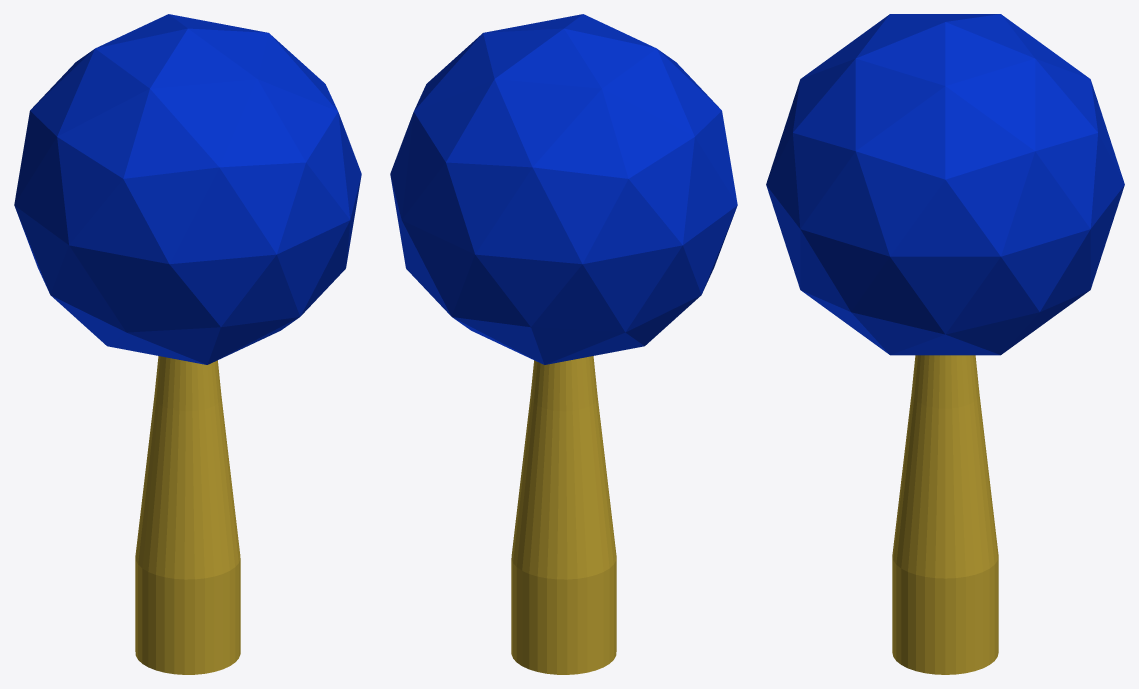
Rendered from Tree.obj.
3 renders of one model, left to right at view 1: azimuth 30°, elevation 25°; view 2: azimuth 150°, elevation 25°; view 3: azimuth 270°, elevation 25°, orthographic.
Visible parts, largest first — view 1: Icosphere, Cylinder; view 2: Icosphere, Cylinder; view 3: Icosphere, Cylinder.
Part boxes in pixels (left/top/right/bottom): Icosphere: left=14, top=14, right=361, bottom=364; Cylinder: left=135, top=356, right=240, bottom=674; Icosphere: left=390, top=14, right=737, bottom=364; Cylinder: left=511, top=356, right=616, bottom=674; Icosphere: left=766, top=14, right=1124, bottom=355; Cylinder: left=892, top=355, right=998, bottom=674.
Bounding box in the file's own units: 1.1 × 2.25 × 1.16.
